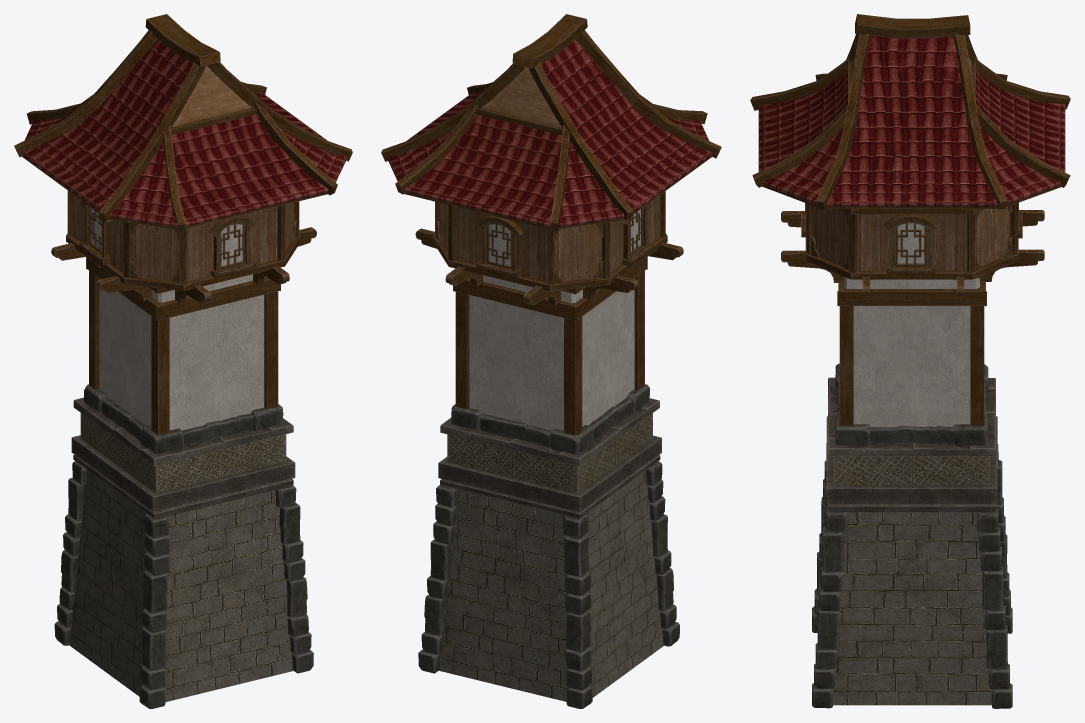
Rendered from DefenseTower.FBX.
3 views of the same model, side by side, from view 1: azimuth 30°, elevation 25°; view 2: azimuth 150°, elevation 25°; view 3: azimuth 270°, elevation 25° (orthographic). The views are drawn at different scales.
Parts seen in each view (by area): view 1: DefenseTower; view 2: DefenseTower; view 3: DefenseTower.
Part boxes in pixels (x1,y1,x2,y2): DefenseTower: (14,14,352,708); DefenseTower: (381,14,721,708); DefenseTower: (750,14,1070,708).
Bounding box in the file's own units: 174 × 407 × 183.
